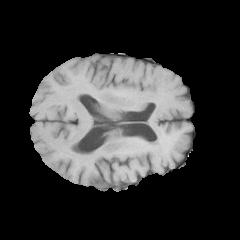glioma: (78, 136, 164, 165)
